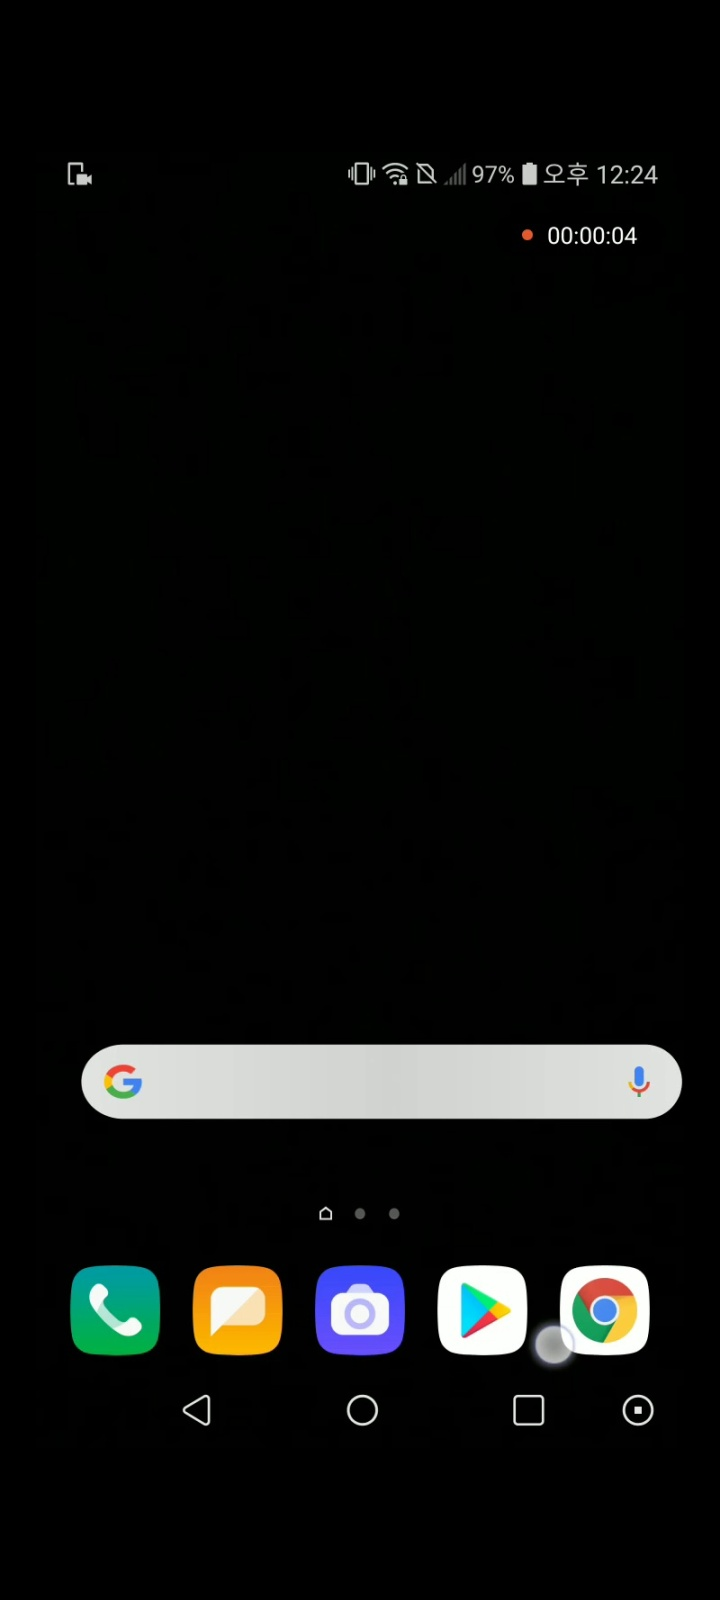Cursor: (532, 1322, 577, 1367)
